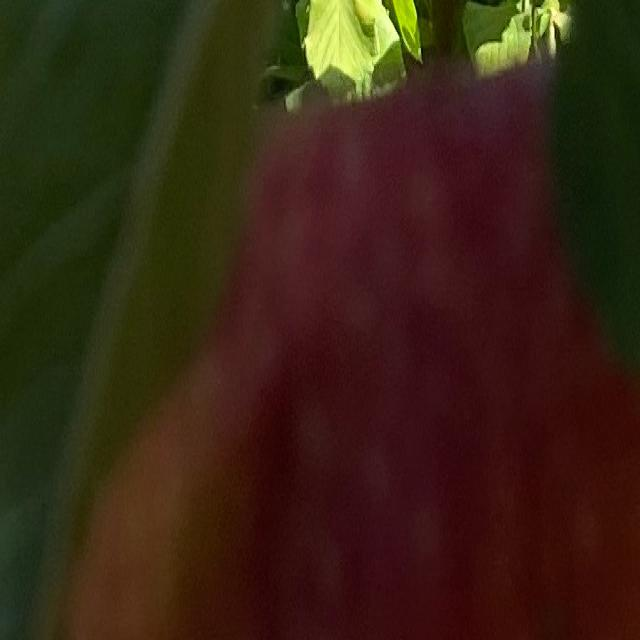Apples: (69, 59, 639, 638)
